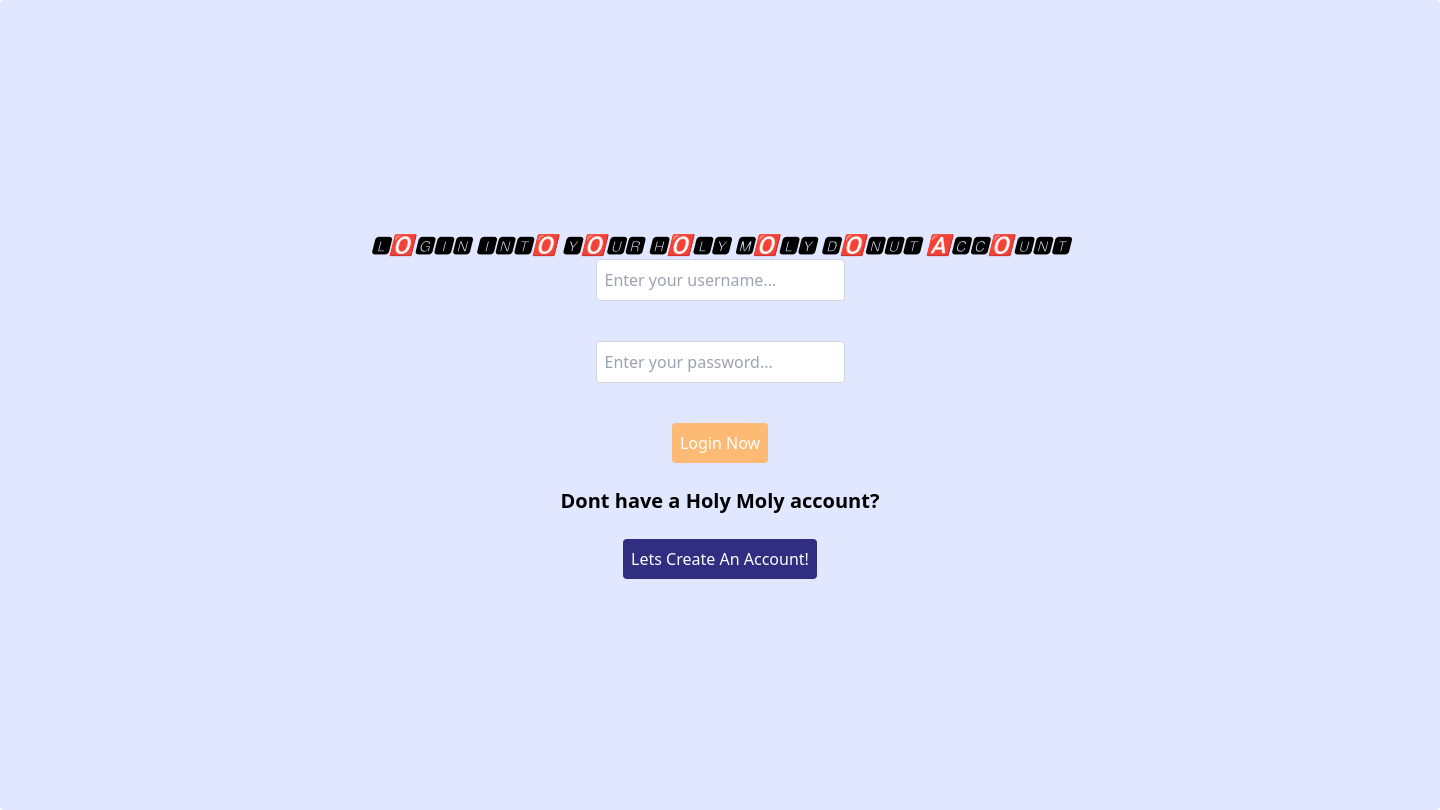
Login component › display message login failed on AWS Error
Type "DeAsia" into the field with placeholder "Enter your username..." at (720, 280), box [596,259,844,301]
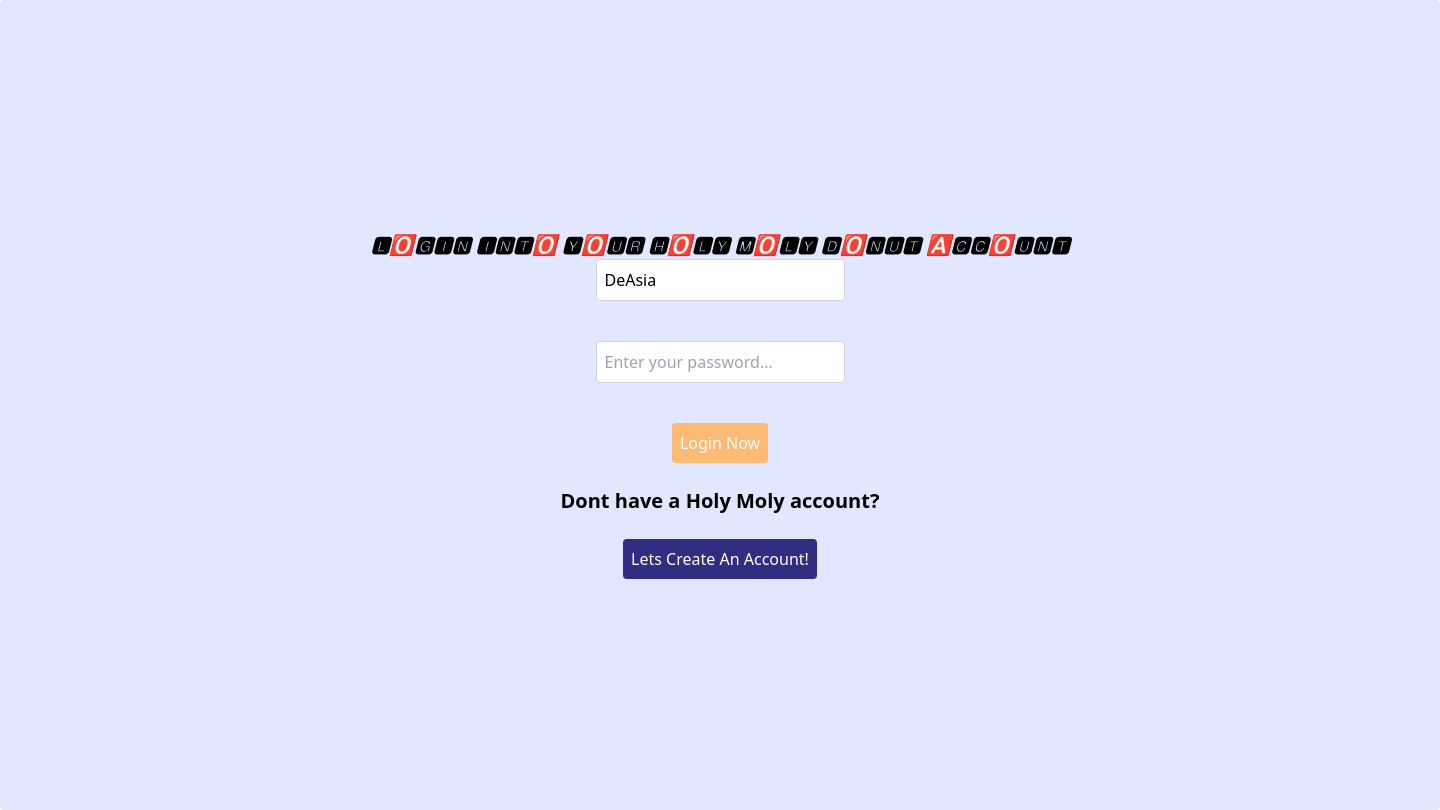
Type "DeAsia19!" into the password field with placeholder "Enter your password..." at (720, 362), box [596,341,844,383]
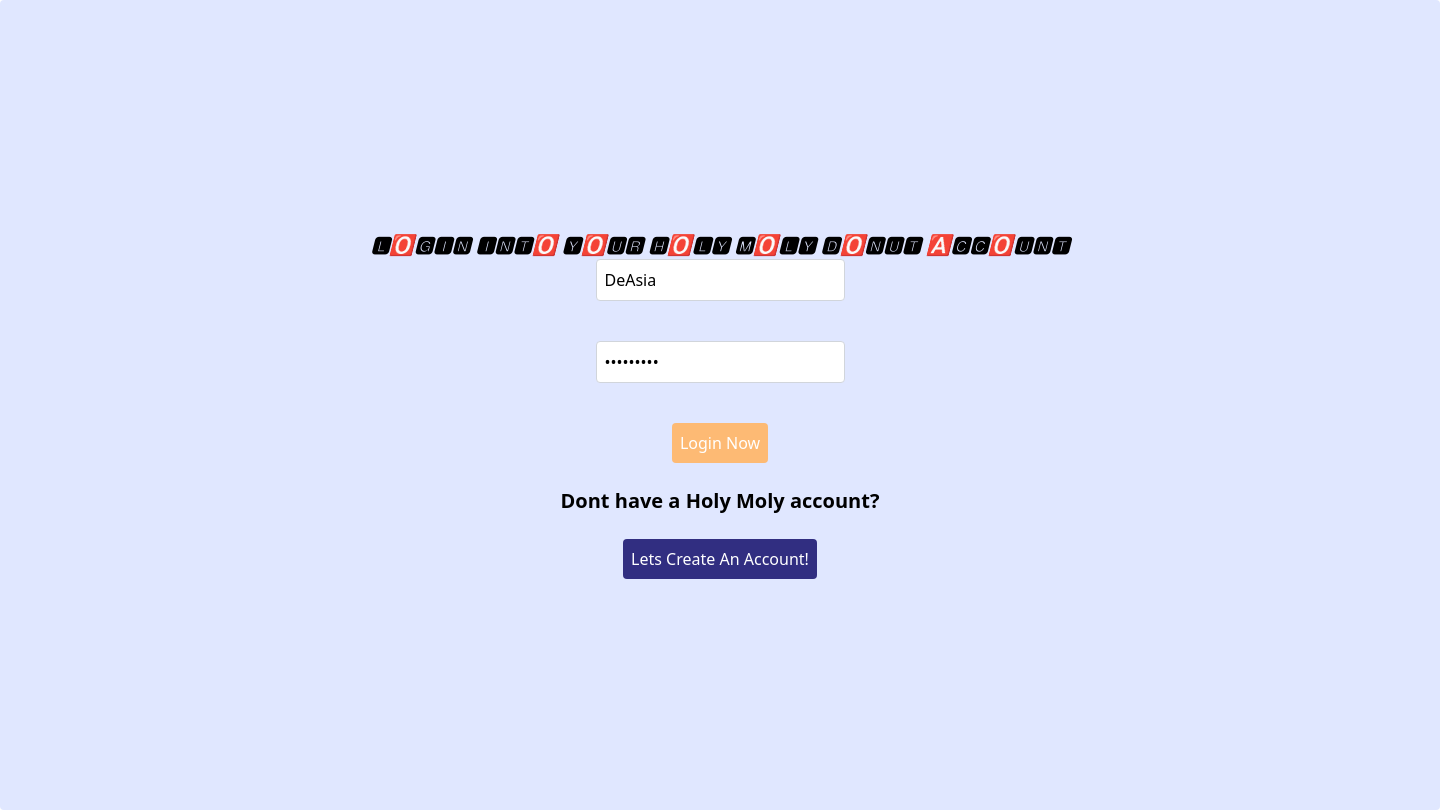
Click the button "Login Now" at (720, 443), box [672,423,768,463]
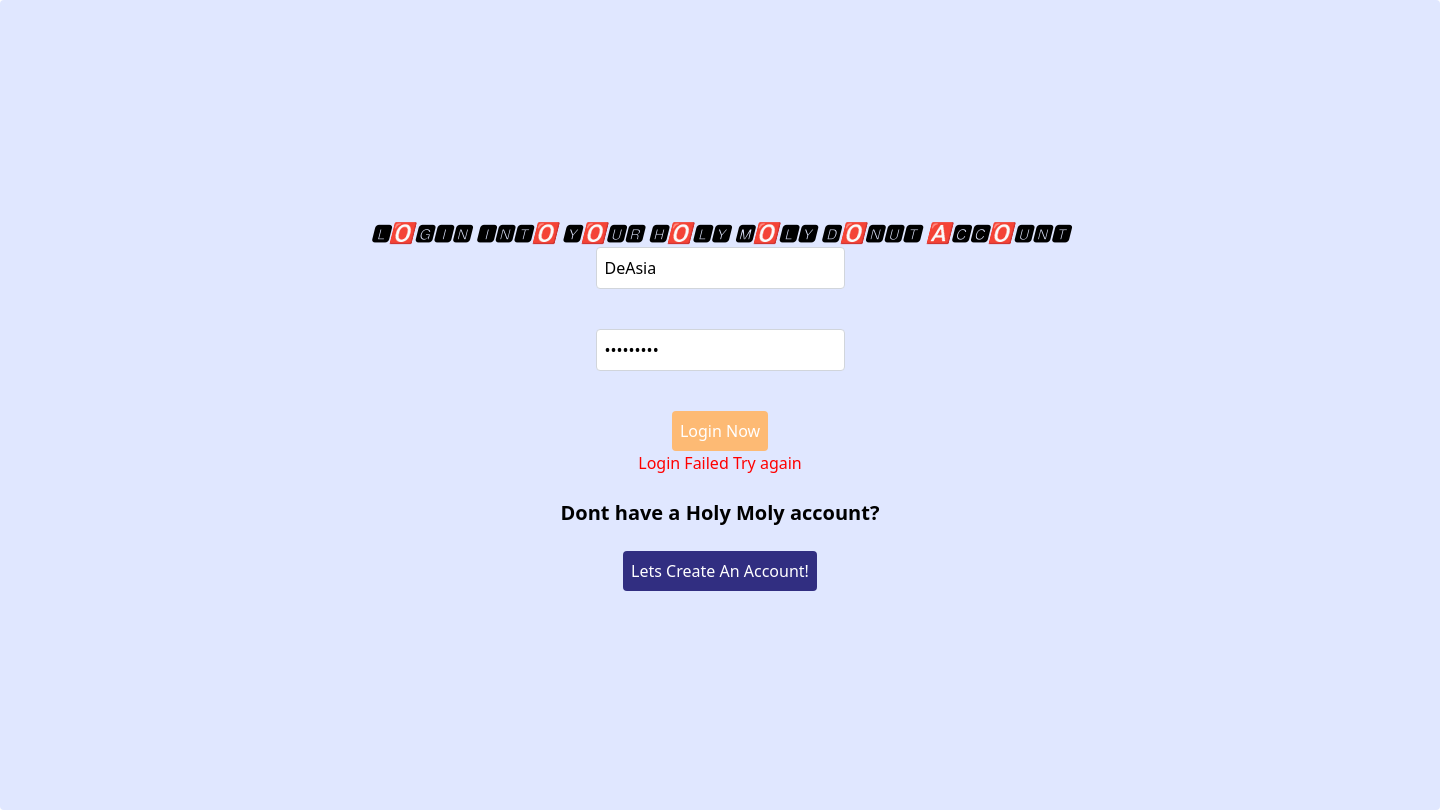
Now the text "Login Failed Try again" is shown, box [638,451,802,475]
